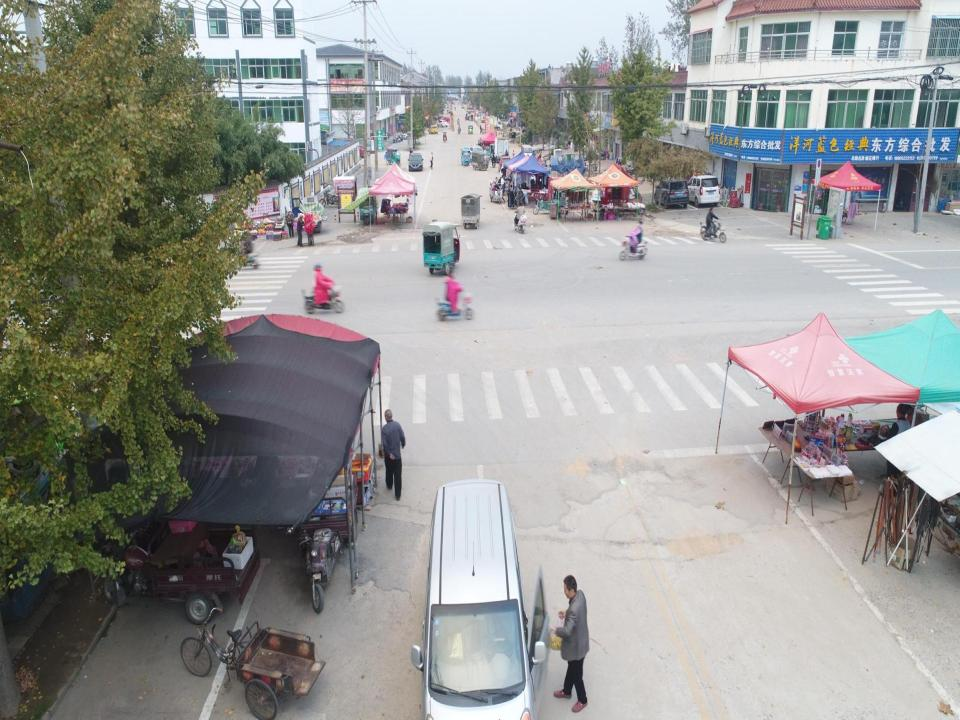car: (652, 176, 690, 210), (684, 174, 720, 206), (468, 145, 486, 165), (408, 152, 424, 172), (402, 129, 420, 142), (498, 156, 512, 172), (428, 124, 438, 136), (438, 115, 450, 123), (437, 120, 448, 128), (437, 113, 444, 123), (434, 115, 440, 121), (474, 110, 479, 114)
van: (408, 474, 548, 719), (446, 103, 449, 108)
